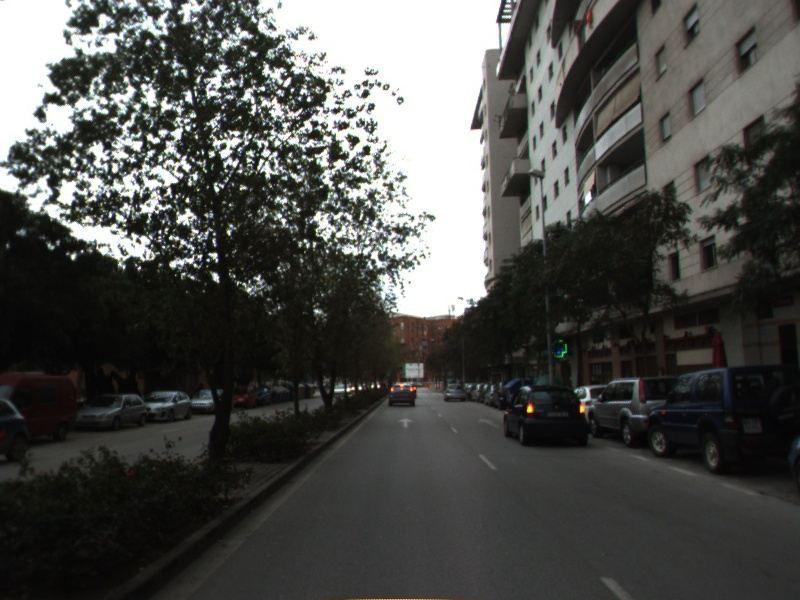STRAIGHT: (475, 416, 502, 430), (396, 416, 417, 430)
